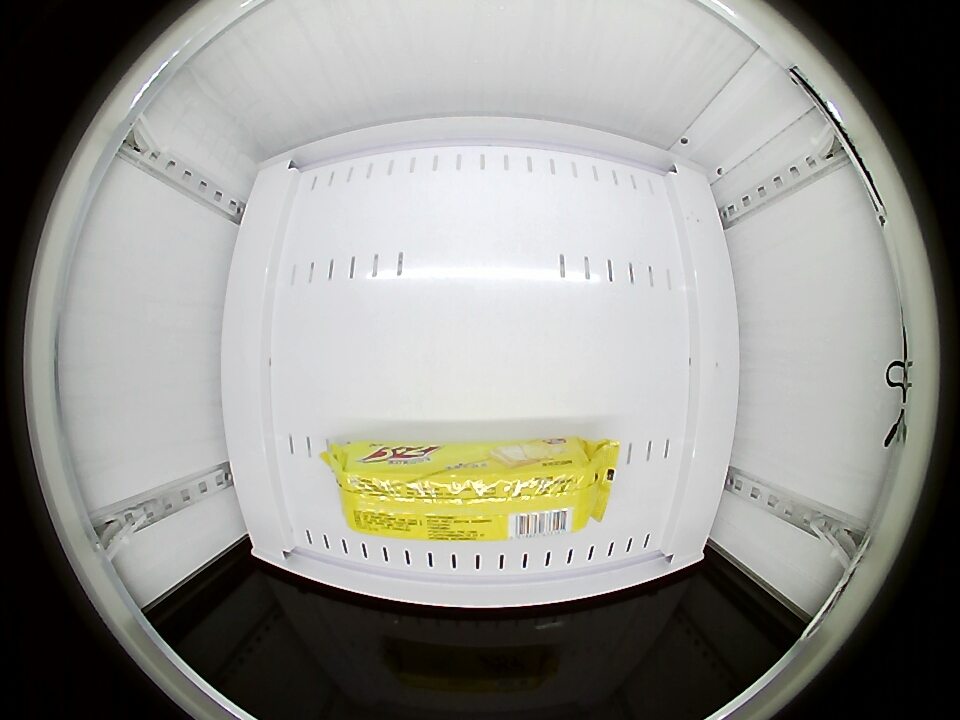3+2-2: (338, 438, 604, 540)
